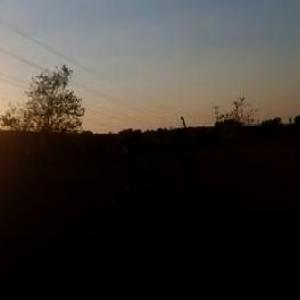follow: (104, 152, 169, 299)
